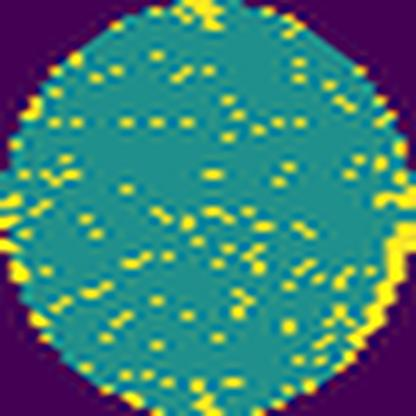Edge-Loc: (330, 215, 415, 375), (371, 172, 415, 206)
